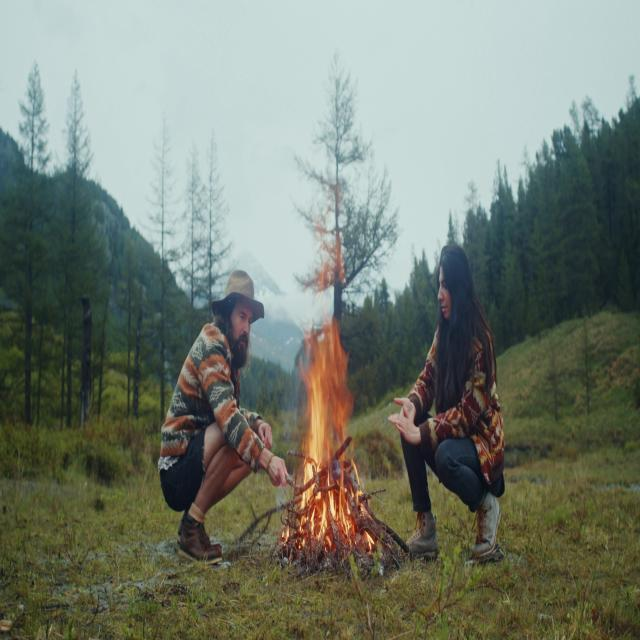Fire: (284, 327, 376, 551)
